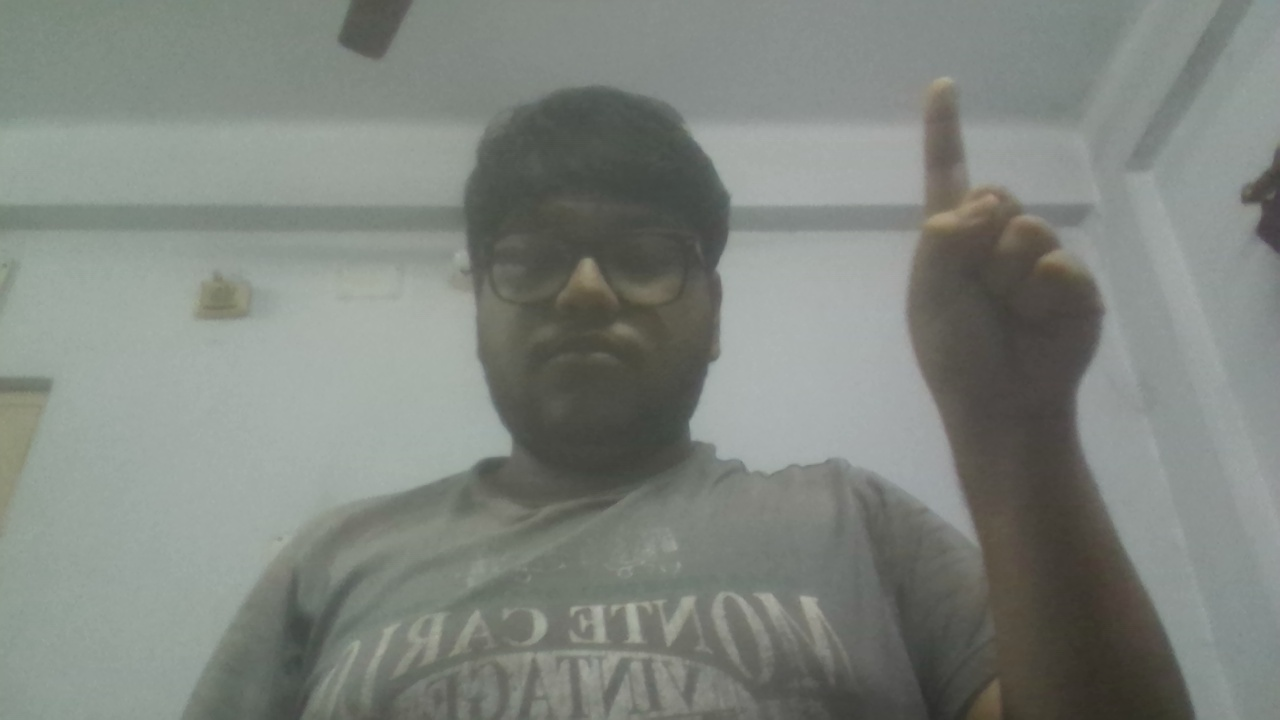Gesture1: (893, 66, 1121, 452)
